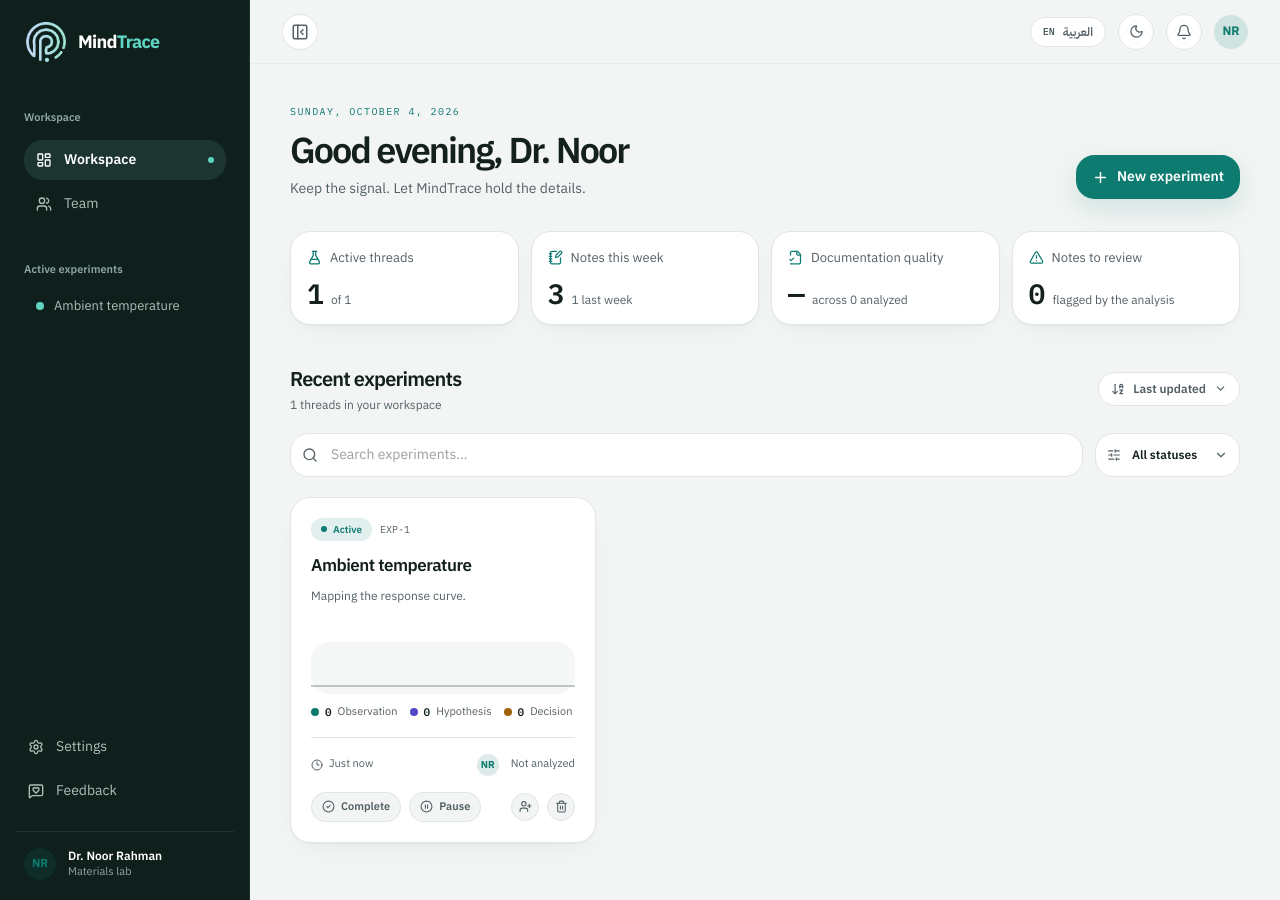
Scenario: header › signing out clears the session and returns to sign-in
The image size is (1280, 900).
What coordinates should you click on to do the following:
click the button with test id "avatar-user"
I would click on:
 (1231, 32)
Its box is [1214,14,1248,48].
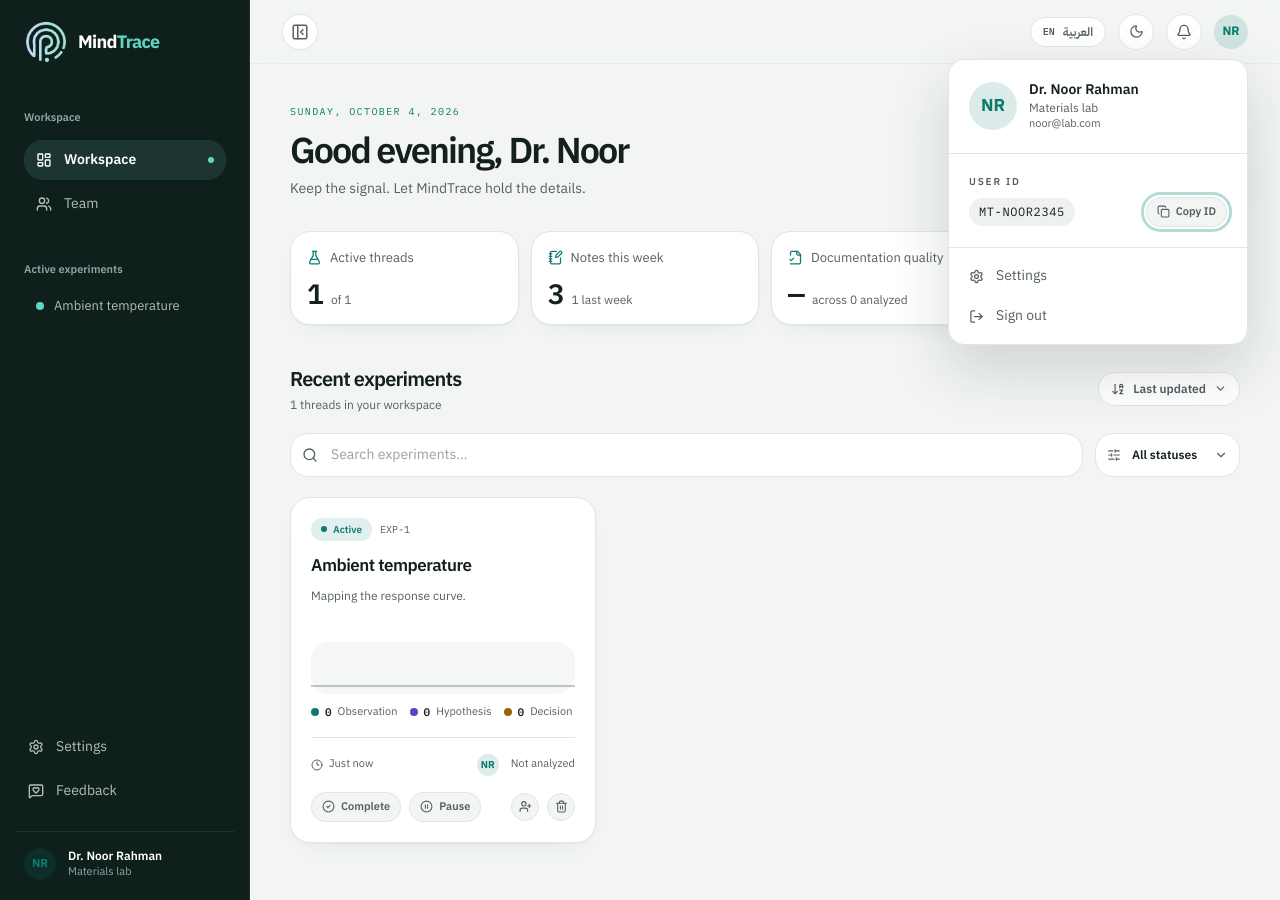
What coordinates should you click on to do the following:
click the button with test id "button-sign-out"
I would click on:
 (1022, 316)
Its box is [957,296,1239,336].
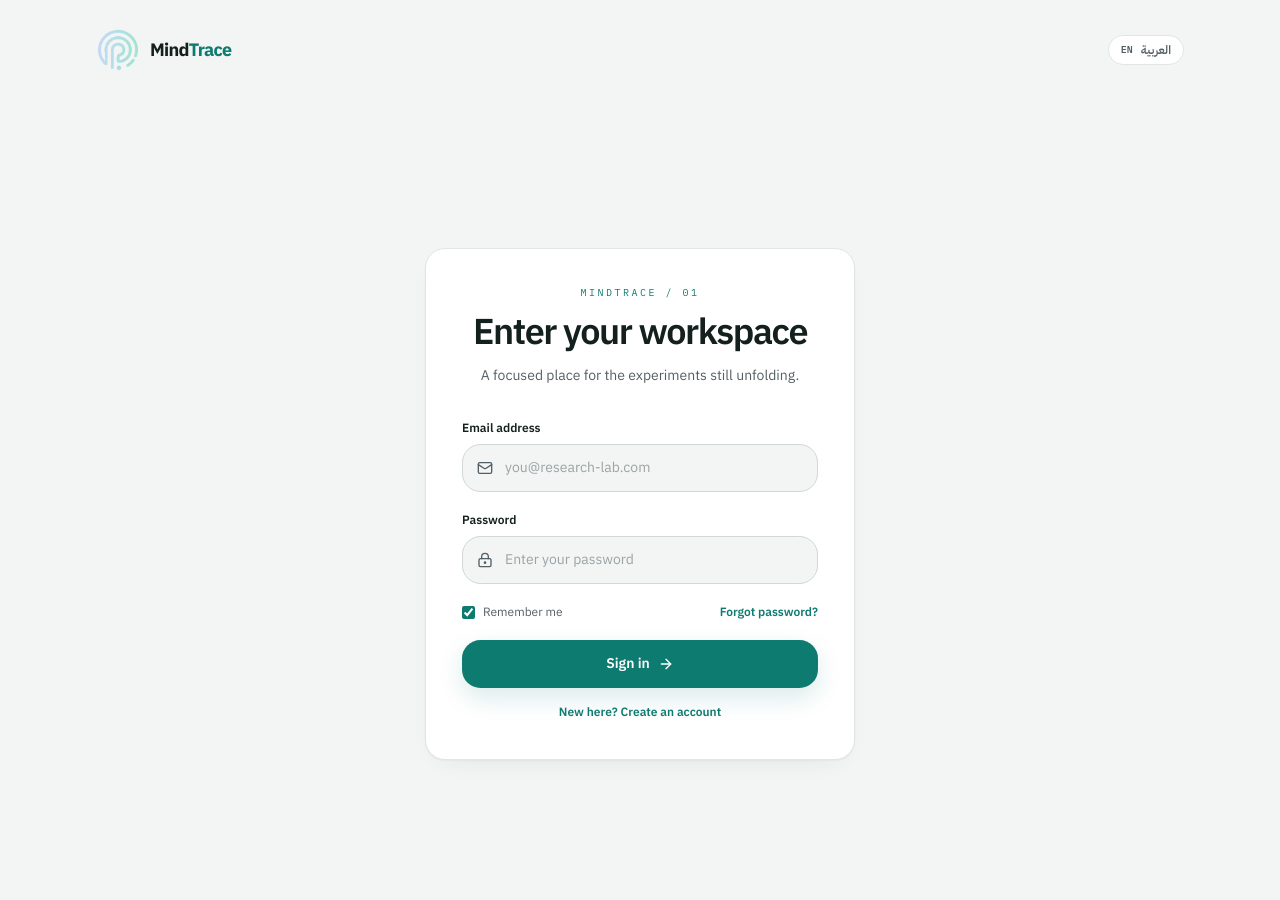
Now the button with test id "button-sign-in" is shown, box [462,640,818,688]
